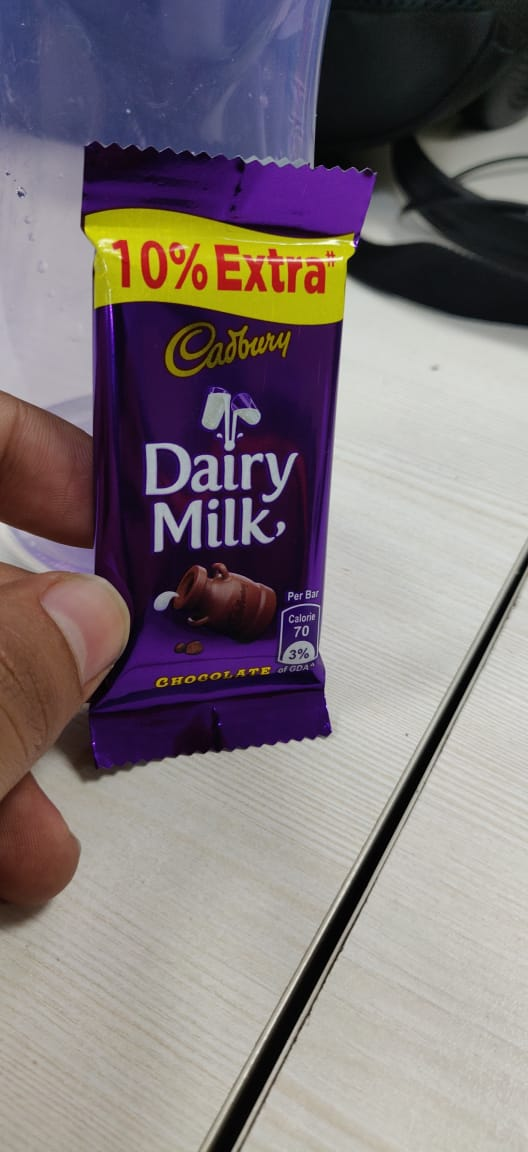dairy milk: (69, 132, 387, 791)
